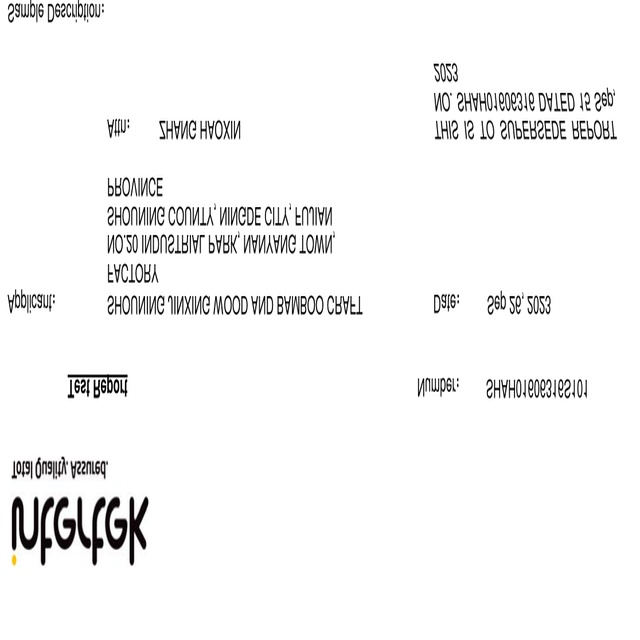intertek: (0, 449, 155, 577)
